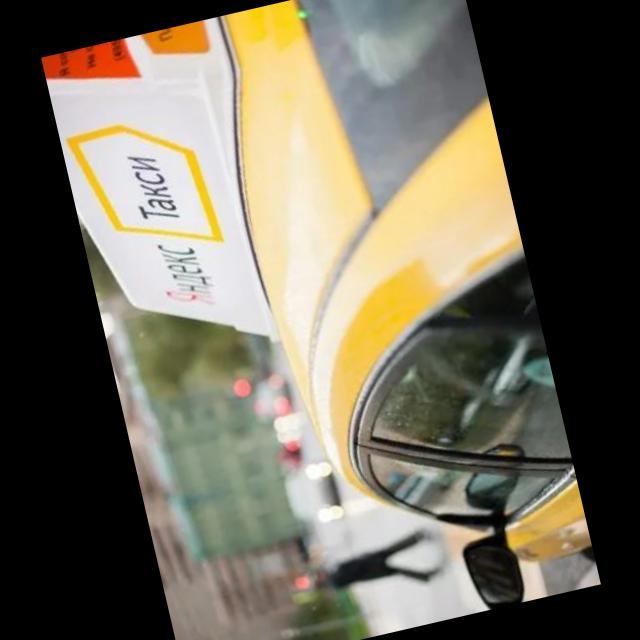taxi: (41, 1, 600, 640)
